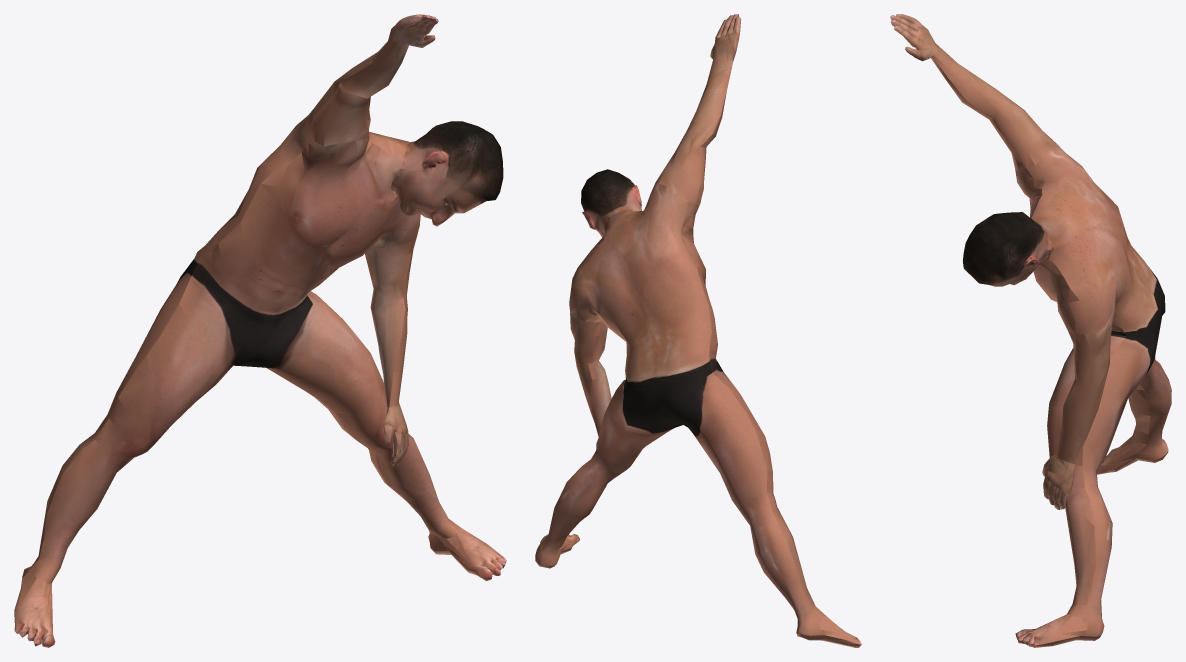
The model's file is man2.FBX.
3 renders of one model, left to right at view 1: azimuth 30°, elevation 25°; view 2: azimuth 150°, elevation 25°; view 3: azimuth 270°, elevation 25°, orthographic. The views are drawn at different scales.
Visible parts, largest first — view 1: SMan0001-G; view 2: SMan0001-G; view 3: SMan0001-G.
Part boxes in pixels (x1=…): SMan0001-G: x1=14, y1=14, x2=506, y2=647; SMan0001-G: x1=535, y1=14, x2=861, y2=647; SMan0001-G: x1=890, y1=14, x2=1171, y2=647.
Bounding box in the file's own units: 1.29 × 1.82 × 0.8123.
